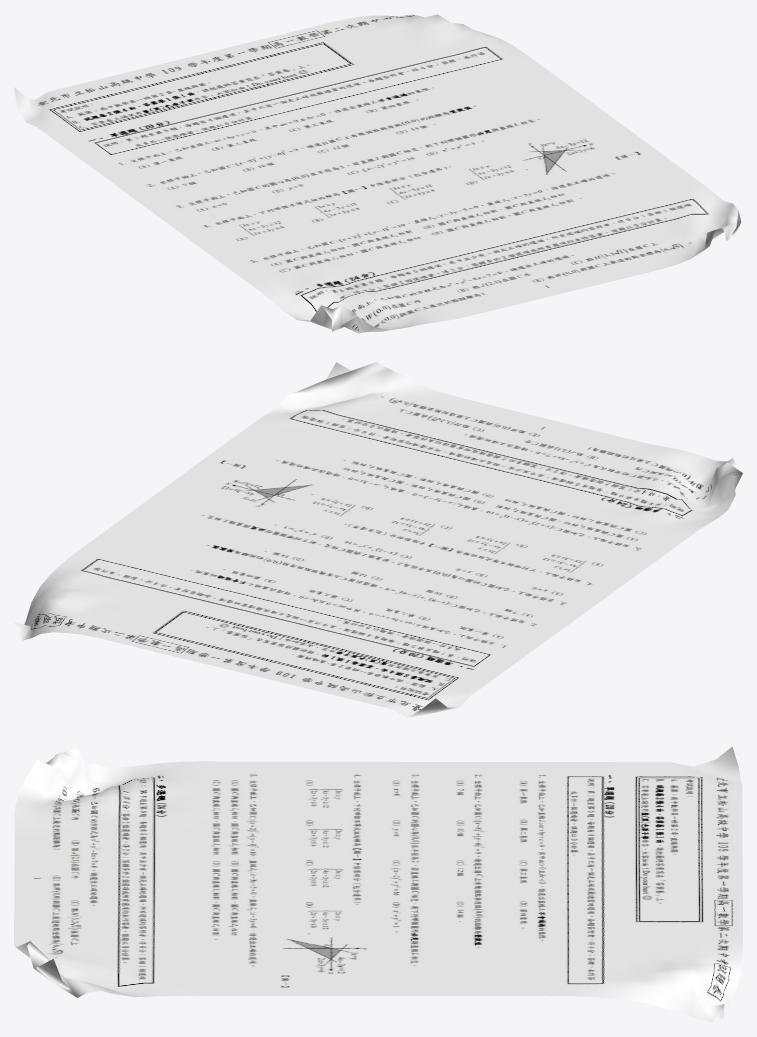
The model's file is 考試卷1.fbx.
The picture shows the model from 3 angles, top to bottom: view 1: azimuth 30°, elevation 25°; view 2: azimuth 150°, elevation 25°; view 3: azimuth 270°, elevation 25°; orthographic projection. The views are drawn at different scales.
Parts seen in each view (by area): view 1: Plane001; view 2: Plane001; view 3: Plane001.
Boxes of the visible parts, x1,y1,x2,y2 form: Plane001: (14, 14, 742, 333); Plane001: (14, 362, 742, 717); Plane001: (14, 746, 742, 1022).
Bounding box in the file's own units: 30.03 × 3.46 × 39.43.
1 material, 1 textured.
